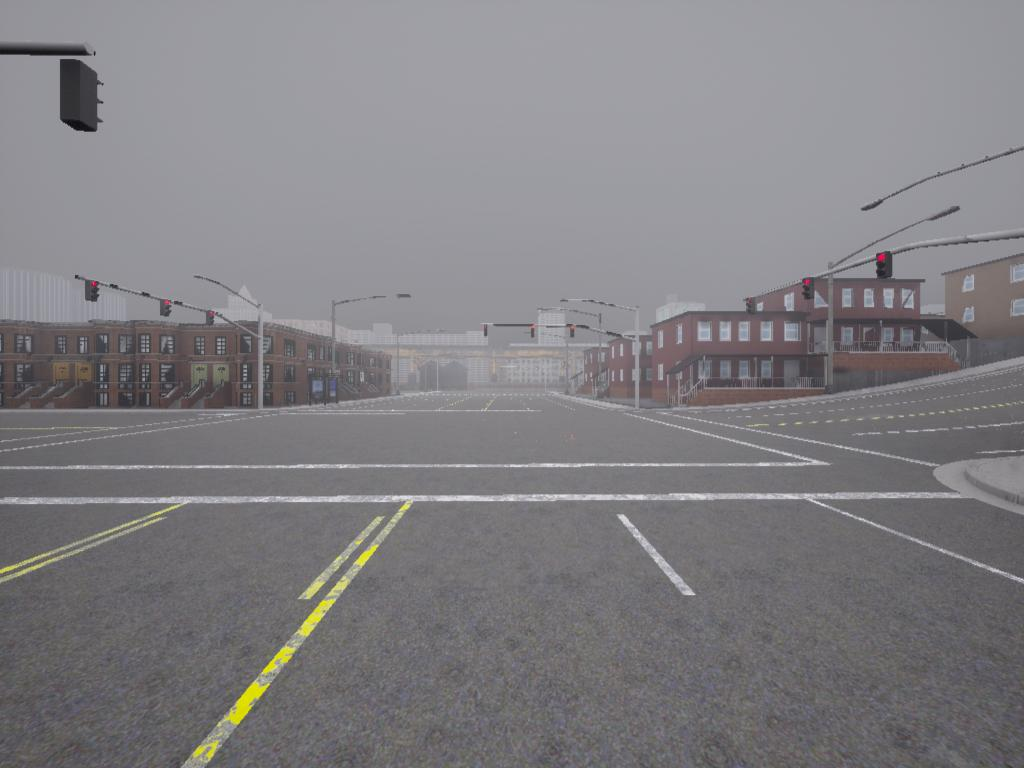traffic_light: (58, 64, 103, 134), (877, 256, 894, 282), (802, 277, 815, 304), (88, 280, 101, 303), (748, 298, 757, 318), (162, 302, 172, 318), (208, 312, 219, 326), (567, 326, 576, 339), (531, 326, 539, 339), (484, 325, 490, 340)
